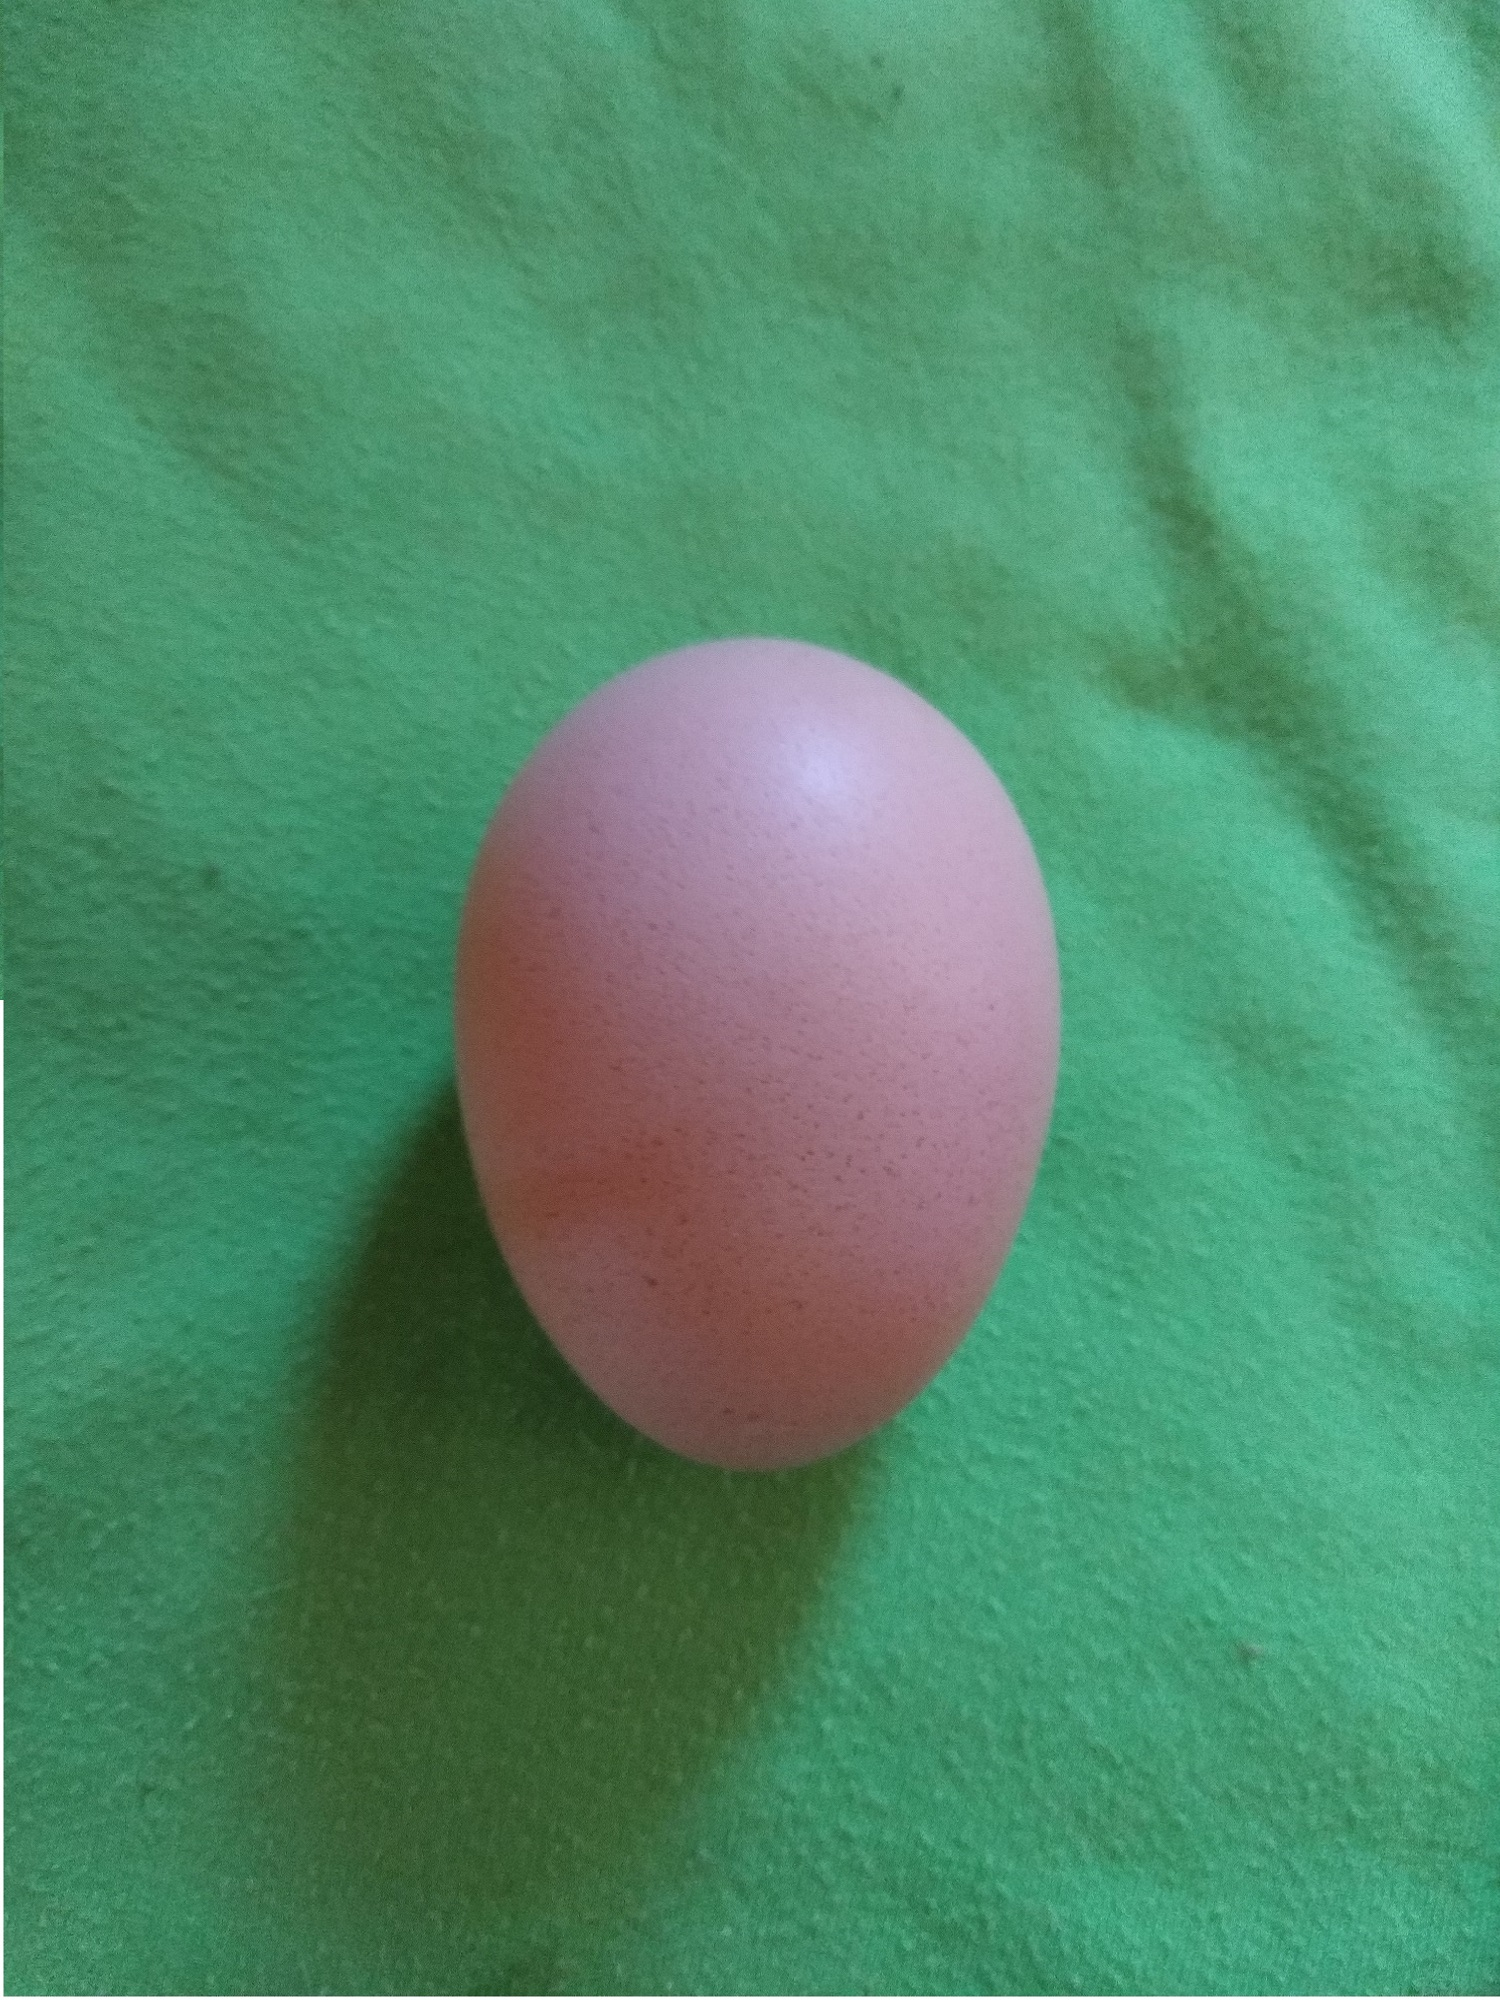Female: (444, 631, 1067, 1477)
